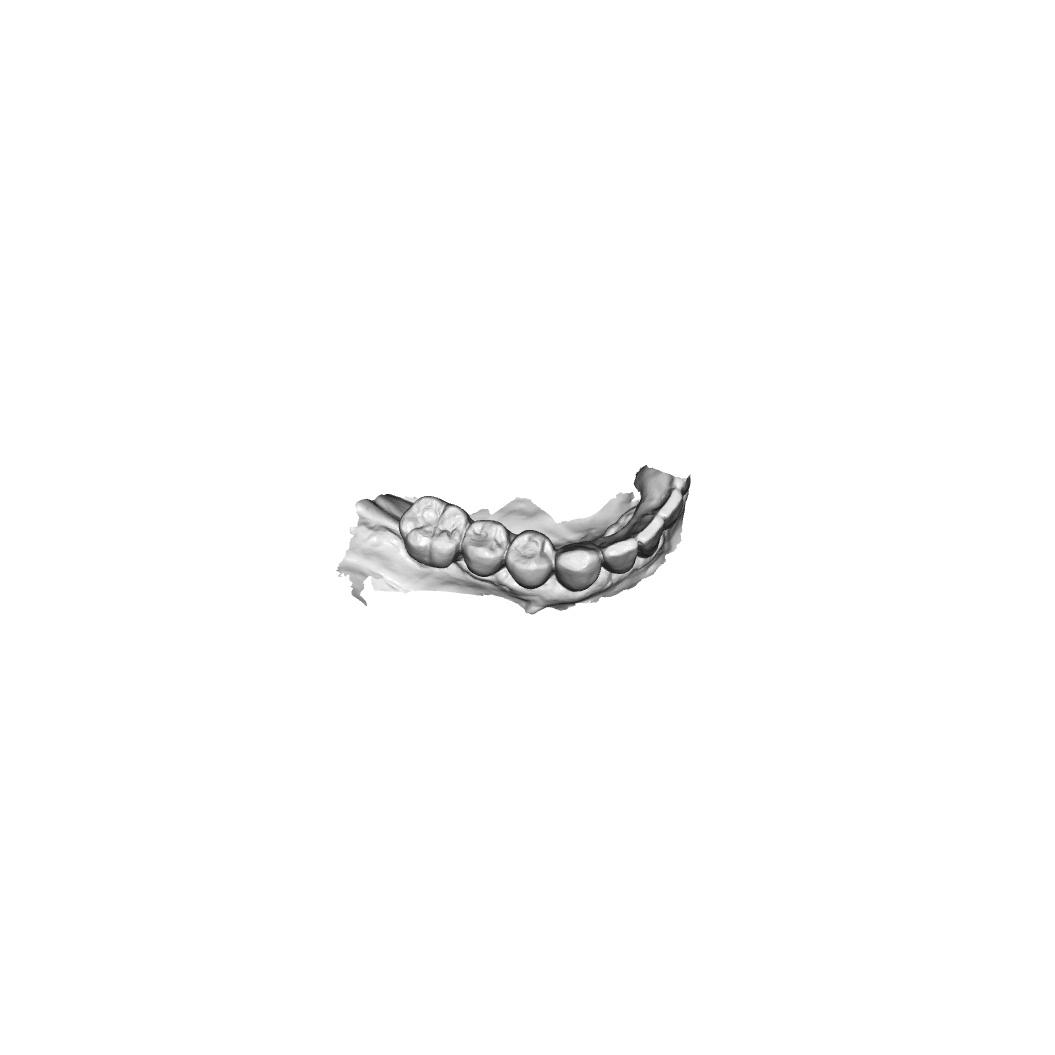canine: (554, 540, 604, 593)
incisor: (642, 488, 684, 530), (594, 536, 639, 574), (628, 514, 666, 559)
molar: (397, 495, 472, 570)
premolar: (504, 529, 555, 591), (460, 518, 510, 579)
